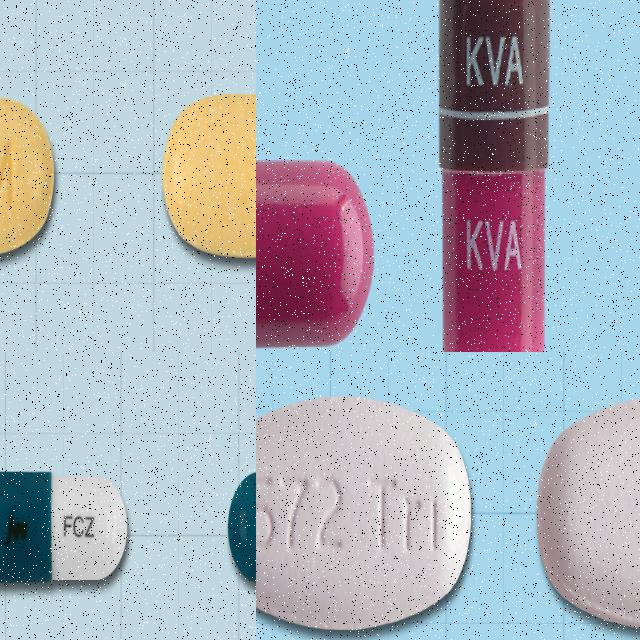Larith: (162, 91, 256, 260), (0, 93, 54, 259)
Oneflu Cap: (0, 469, 129, 585)
Truvada Tab: (256, 397, 472, 628), (537, 395, 640, 631)
Vemlidy Tab: (440, 0, 551, 352), (256, 155, 376, 352)
